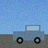vehicle: (13, 25, 44, 44)
